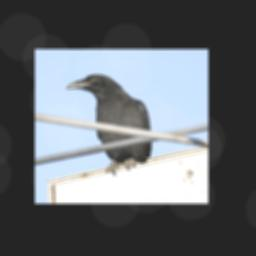Crow: (65, 73, 154, 176)
